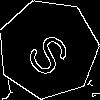S: (23, 24, 80, 80)
